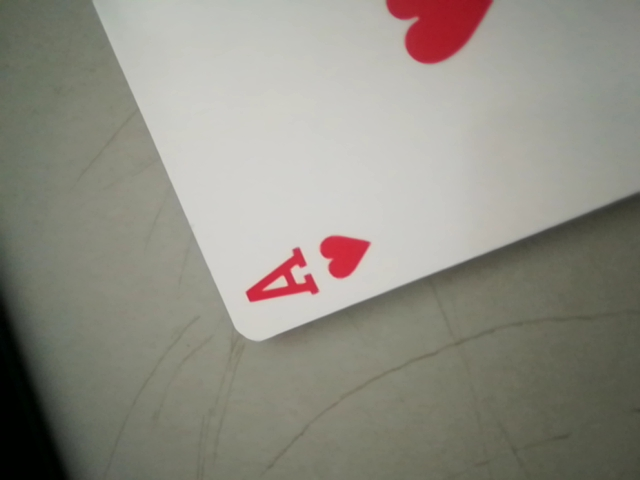hx a: (237, 223, 379, 317)
